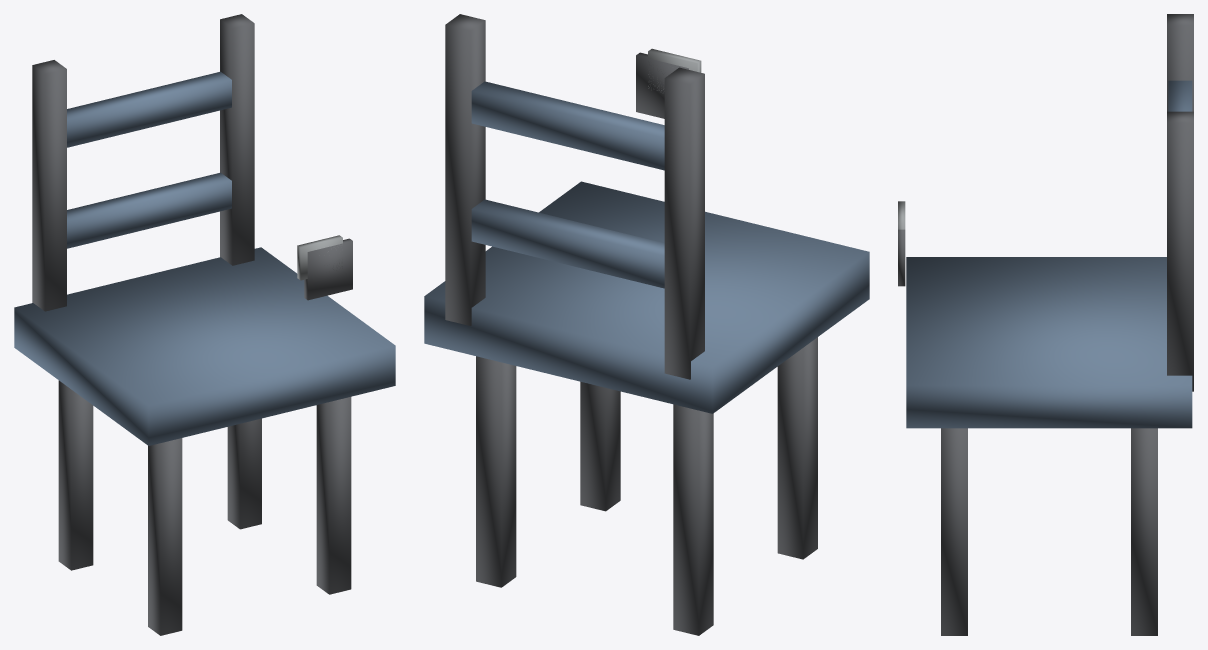
Rendered from jury_chair__weathered.glb.
3 renders of one model, left to right at view 1: azimuth 30°, elevation 25°; view 2: azimuth 150°, elevation 25°; view 3: azimuth 270°, elevation 25°, orthographic. The views are drawn at different scales.
Visible parts, largest first — view 1: world; view 2: world; view 3: world.
Boxes of the visible parts, box(x1,y1,x2,y2) form: world: box(14, 14, 395, 635); world: box(424, 14, 869, 635); world: box(898, 14, 1193, 635).
Bounding box in the file's own units: 0.5065 × 0.9535 × 0.4936.
